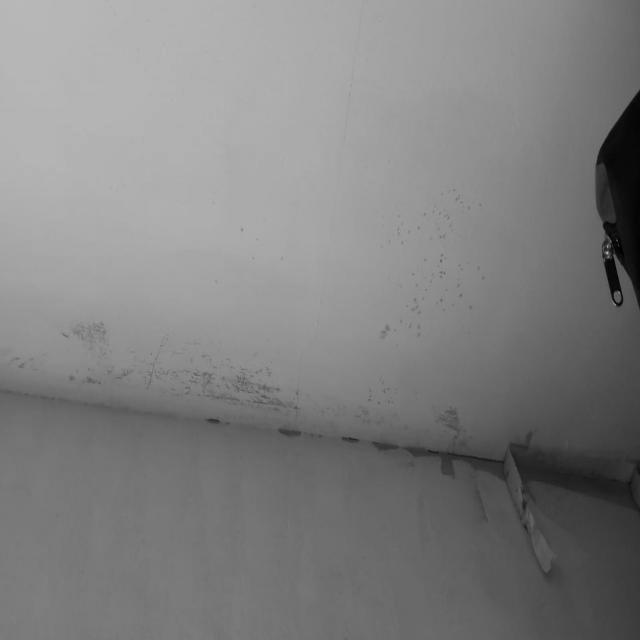stain marks: (374, 186, 491, 348), (66, 358, 302, 410), (354, 355, 398, 444), (55, 308, 113, 354), (426, 402, 469, 446), (1, 343, 40, 384)
